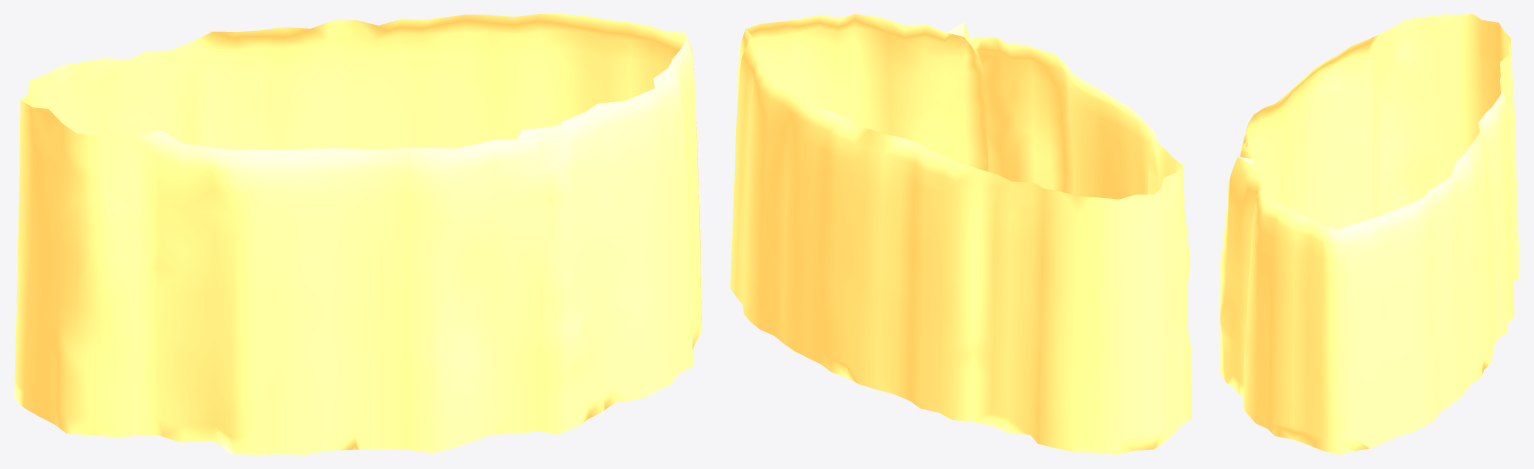
The model's file is mine_hover.glb.
3 views of the same model, side by side, from view 1: azimuth 30°, elevation 25°; view 2: azimuth 150°, elevation 25°; view 3: azimuth 270°, elevation 25° (orthographic). The views are drawn at different scales.
Visible parts, largest first — view 1: mine_hover; view 2: mine_hover; view 3: mine_hover.
Part boxes in pixels (x1,y1,x2,y2): mine_hover: (14,14,701,454); mine_hover: (730,14,1191,454); mine_hover: (1220,14,1519,454).
Bounding box in the file's own units: 2.76 × 1.35 × 1.61.
